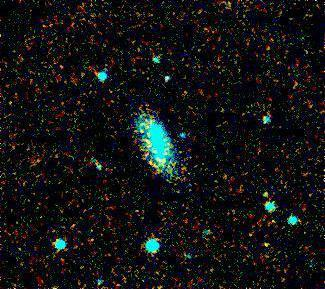star: (131, 150, 161, 180)
